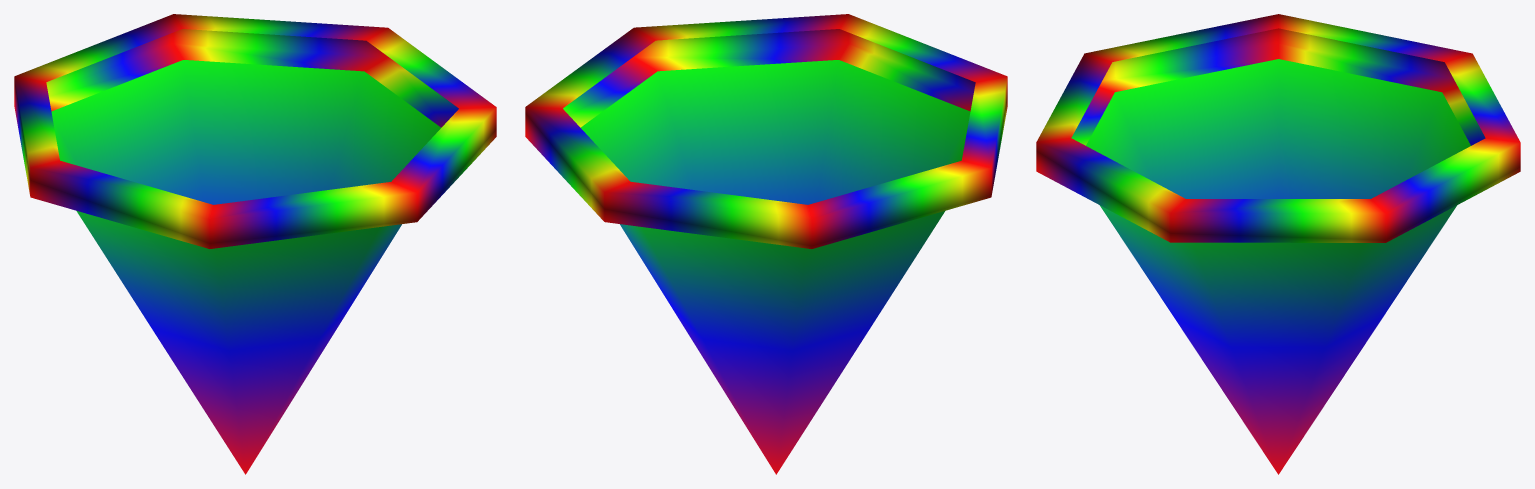
Rendered from ConeBottom.fbx.
3 renders of one model, left to right at view 1: azimuth 30°, elevation 25°; view 2: azimuth 150°, elevation 25°; view 3: azimuth 270°, elevation 25°, orthographic.
Parts seen in each view (by area): view 1: pSphere1; view 2: pSphere1; view 3: pSphere1.
Boxes of the visible parts, x1,y1,x2,y2 form: pSphere1: [14, 14, 496, 474]; pSphere1: [525, 14, 1007, 474]; pSphere1: [1036, 14, 1520, 474].
Bounding box in the file's own units: 26.45 × 22.05 × 27.12.
1 material, 1 textured.
